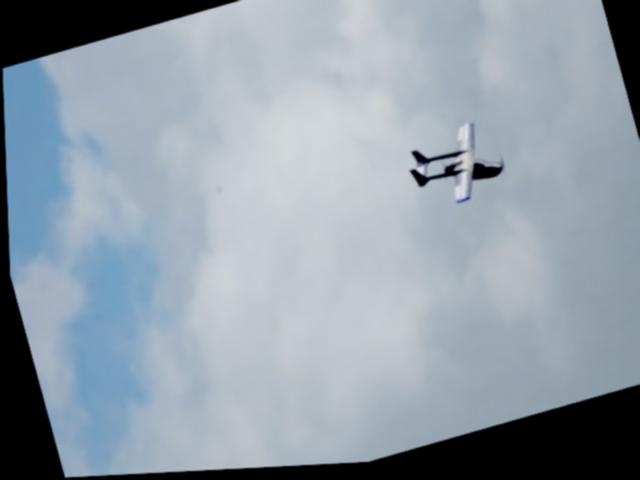uav: (398, 117, 510, 222)
